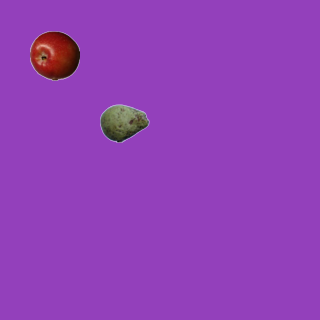Apple Braeburn: (29, 30, 79, 80)
Pear Stone: (99, 98, 149, 148)
